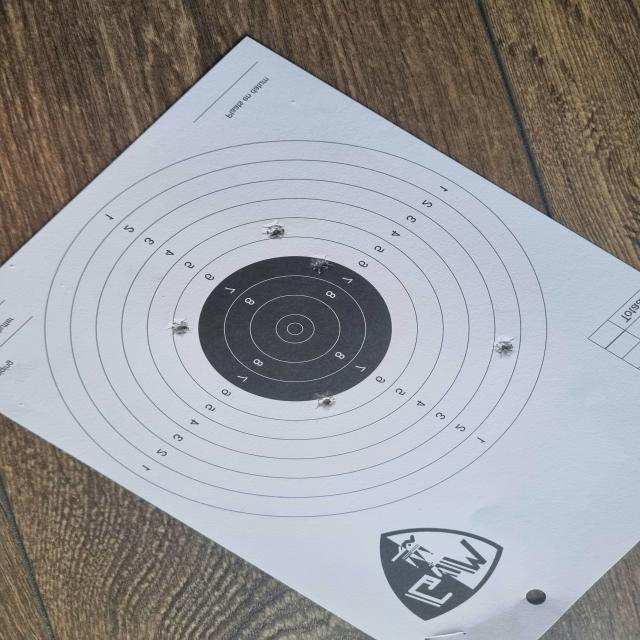3: (493, 338, 515, 355)
6: (167, 318, 190, 336), (263, 221, 285, 239)
7: (308, 255, 334, 275), (314, 392, 336, 410)
Target: (44, 139, 552, 522)
black_contour: (199, 256, 393, 402)
